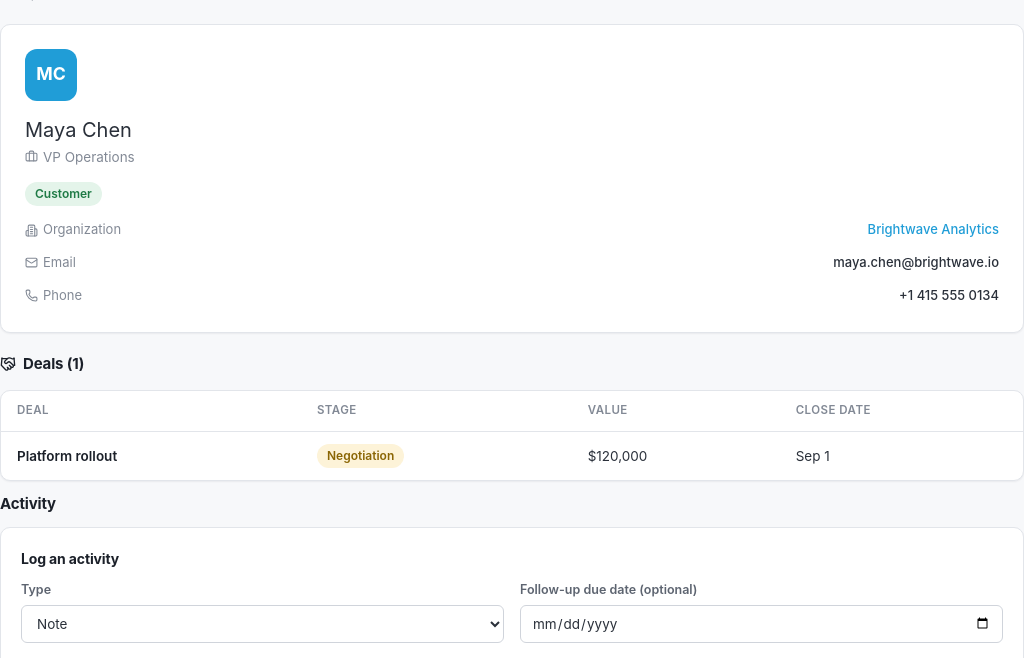
Test: Contact detail — activities › adds an activity and shows it in the timeline
Select "Email" in the dropdown labelled "Type". click: point(262, 624)
box: [21, 605, 504, 643]
(page scrolled)
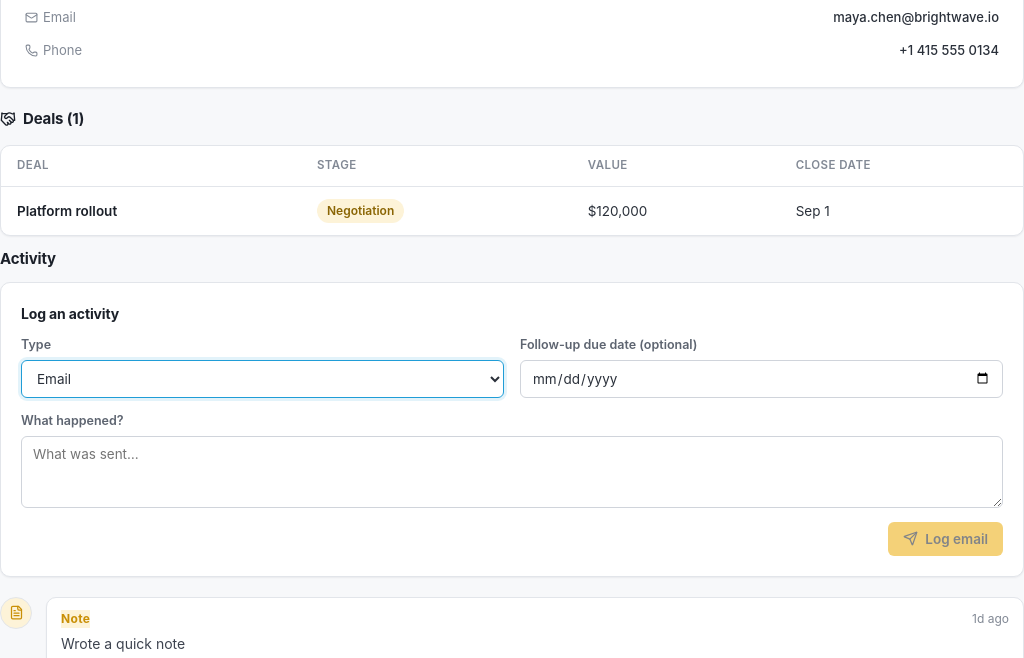
Type "Sent follow-up email" into the text box labelled "What happened?". click: point(512, 472)
box: [21, 436, 1003, 508]
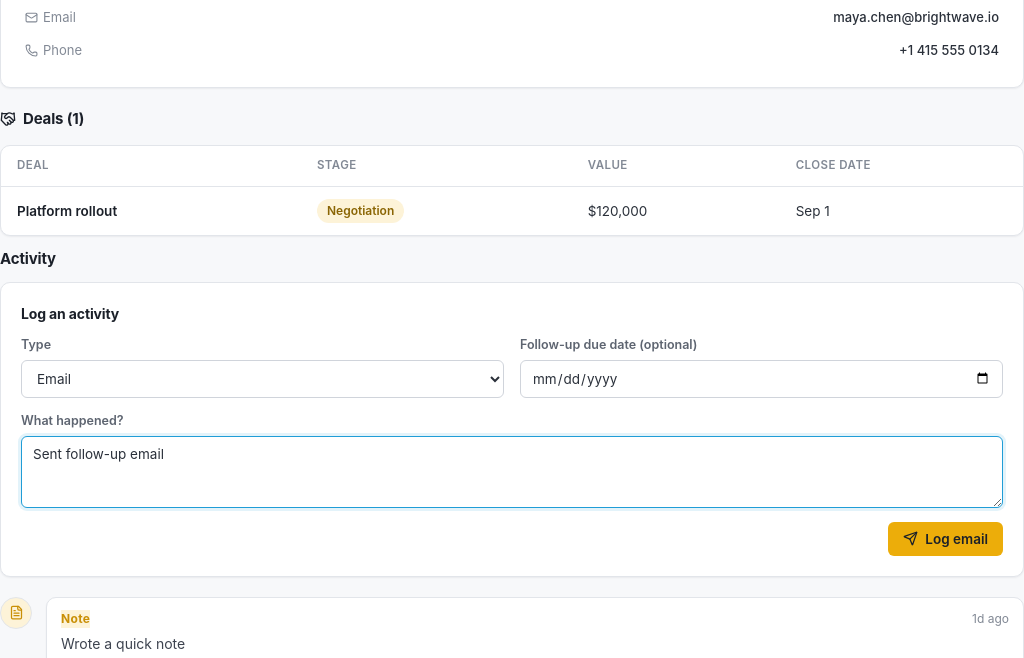
Click the button "Log email". click: point(946, 539)
box: [888, 522, 1003, 556]
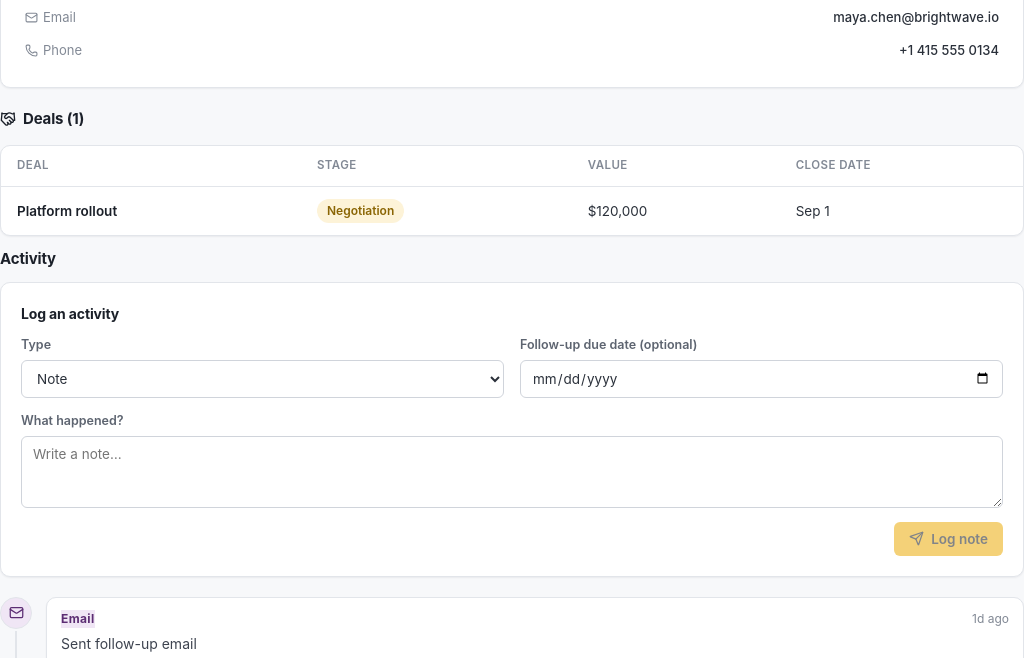
expect the text "Sent follow-up email" is shown: met, box [61, 635, 197, 652]
